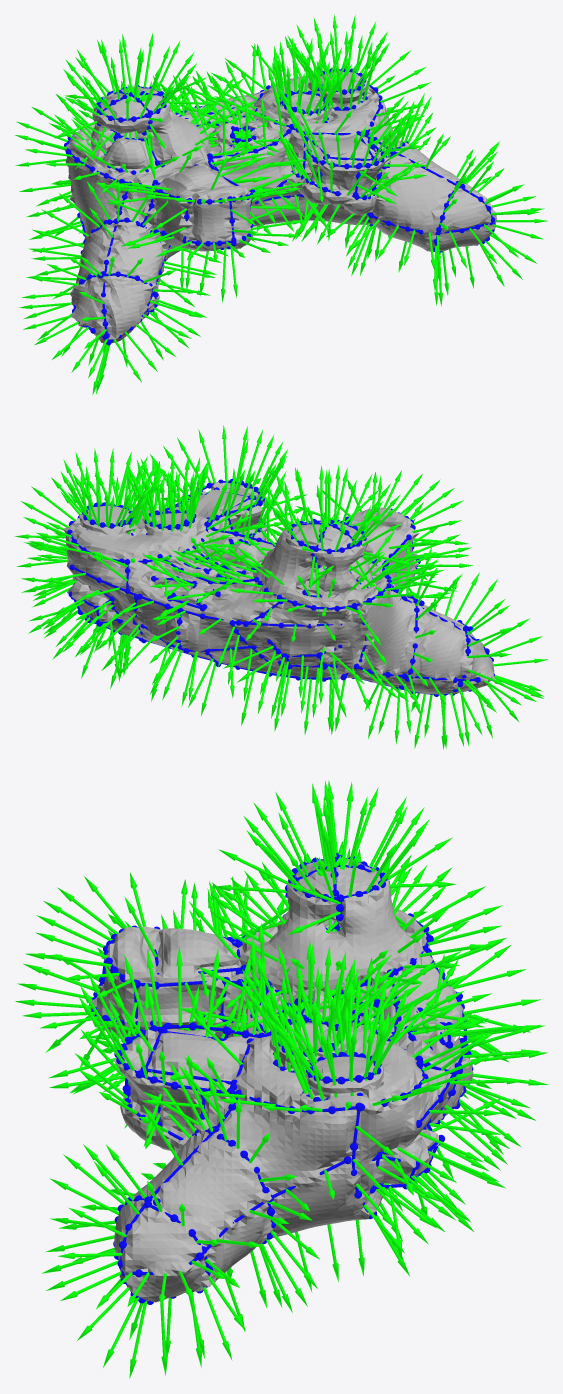
File: author2_gamepad.gltf
3 views of the same model, one above another, from view 1: azimuth 30°, elevation 25°; view 2: azimuth 150°, elevation 25°; view 3: azimuth 270°, elevation 25° (orthographic). The views are drawn at different scales.
Bounding box in the file's own units: 1.01 × 0.5509 × 0.659.
